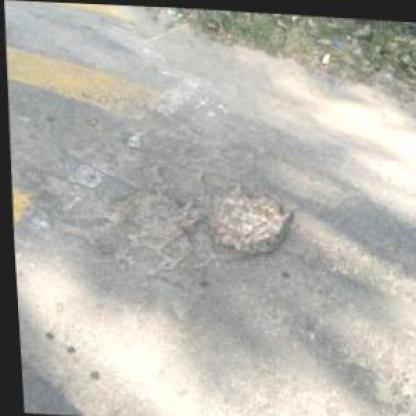pothole: (196, 182, 296, 260), (106, 184, 198, 242)
